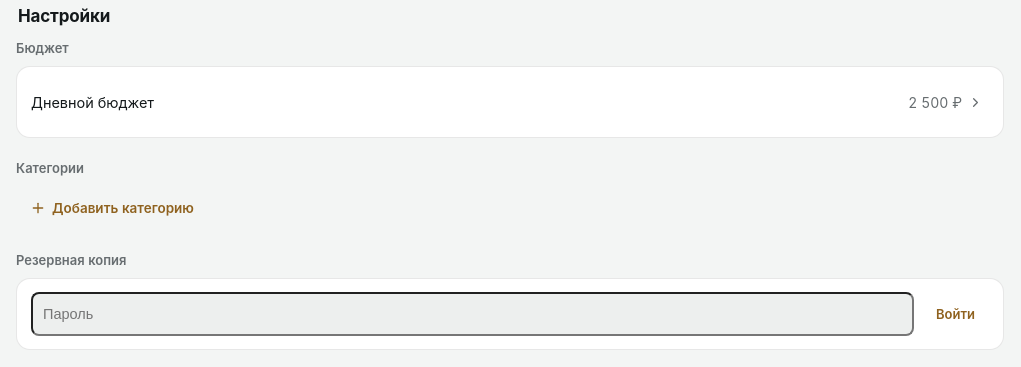
Test: SettingsScreen — daily budget row › saves a new rate and returns to the display state
This screenshot has width=1021, height=367.
Click the button with class "settings-row__value" at (946, 102), box [902,80,989,124]
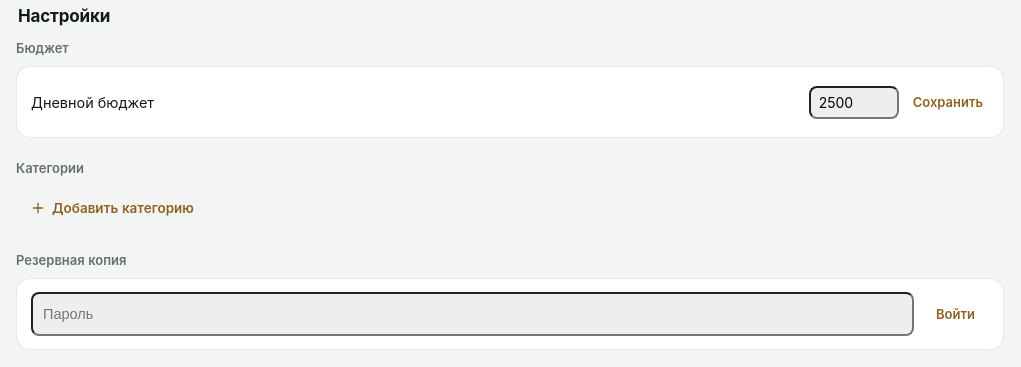
Replace the text in the number field with class "settings-row__rate-input" with "3000" at (854, 102), box [809,86,899,118]
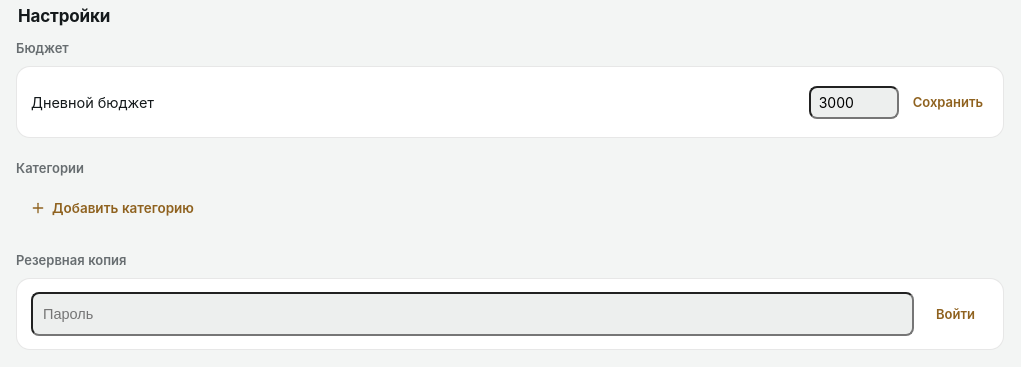
Submit the form with class "settings-row__rate-form", box [809,80,989,124]
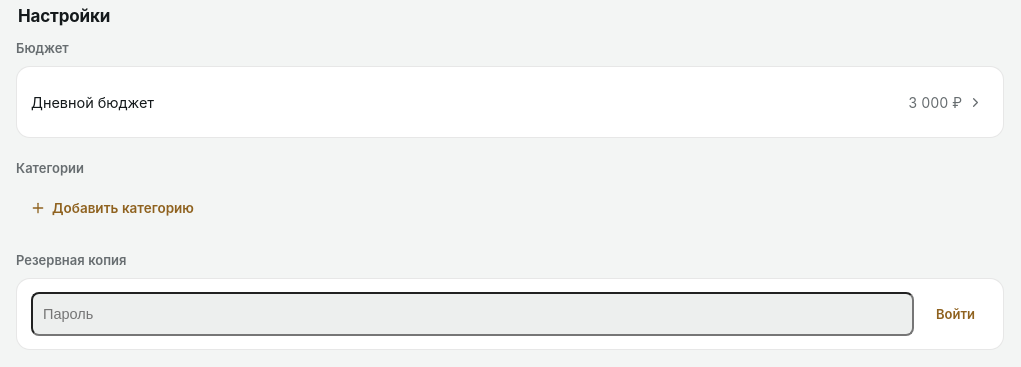
Expected: the button with class "settings-row__value" reads "3 000 ₽", [902,80,989,124]
